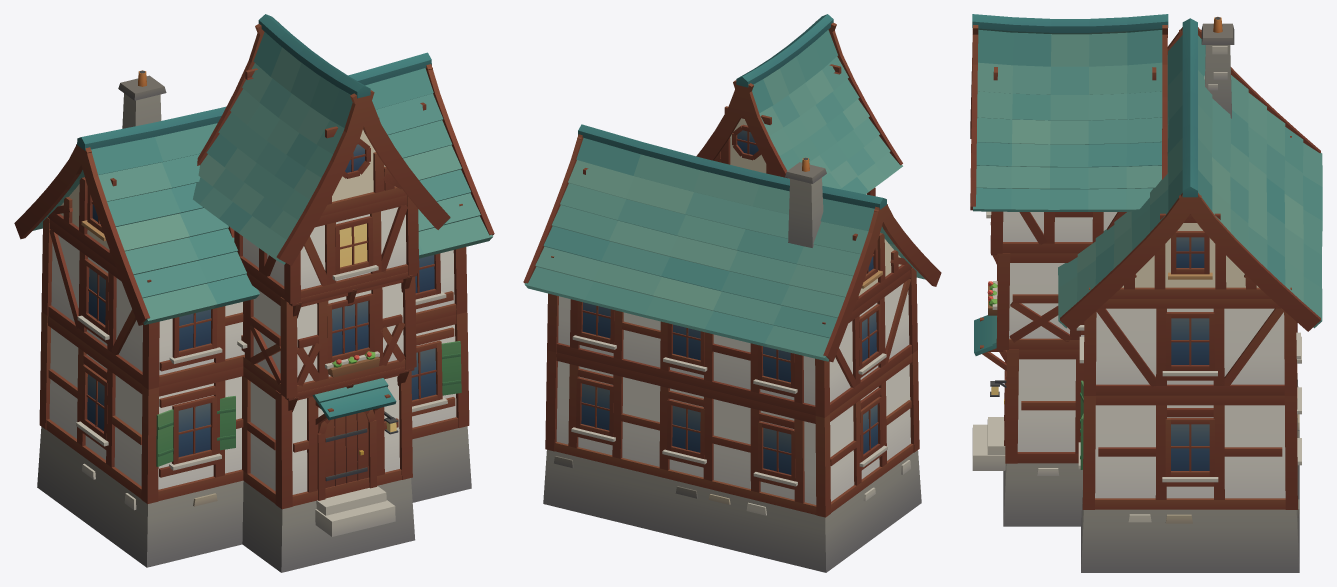
File: house_16_porch_tower_house.glb
The picture shows the model from 3 angles, left to right: view 1: azimuth 30°, elevation 25°; view 2: azimuth 150°, elevation 25°; view 3: azimuth 270°, elevation 25°; orthographic projection. The views are drawn at different scales.
Parts seen in each view (by area): view 1: house_16_porch_tower_house; view 2: house_16_porch_tower_house; view 3: house_16_porch_tower_house.
Boxes of the visible parts, bbox=[...] form: house_16_porch_tower_house: bbox=[14, 14, 494, 572]; house_16_porch_tower_house: bbox=[523, 14, 941, 572]; house_16_porch_tower_house: bbox=[970, 14, 1322, 572].
Size of the model in its own units: 32.18 by 42.39 by 28.21.
1 material, 1 textured.
